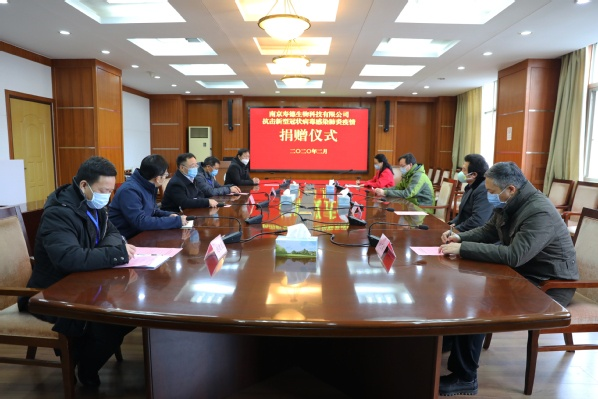correctlyWear: (483, 161, 525, 209), (78, 178, 115, 209), (147, 163, 166, 189), (457, 163, 477, 185), (177, 160, 199, 178), (397, 160, 414, 176), (205, 162, 219, 178), (237, 153, 251, 164), (373, 159, 385, 169)
